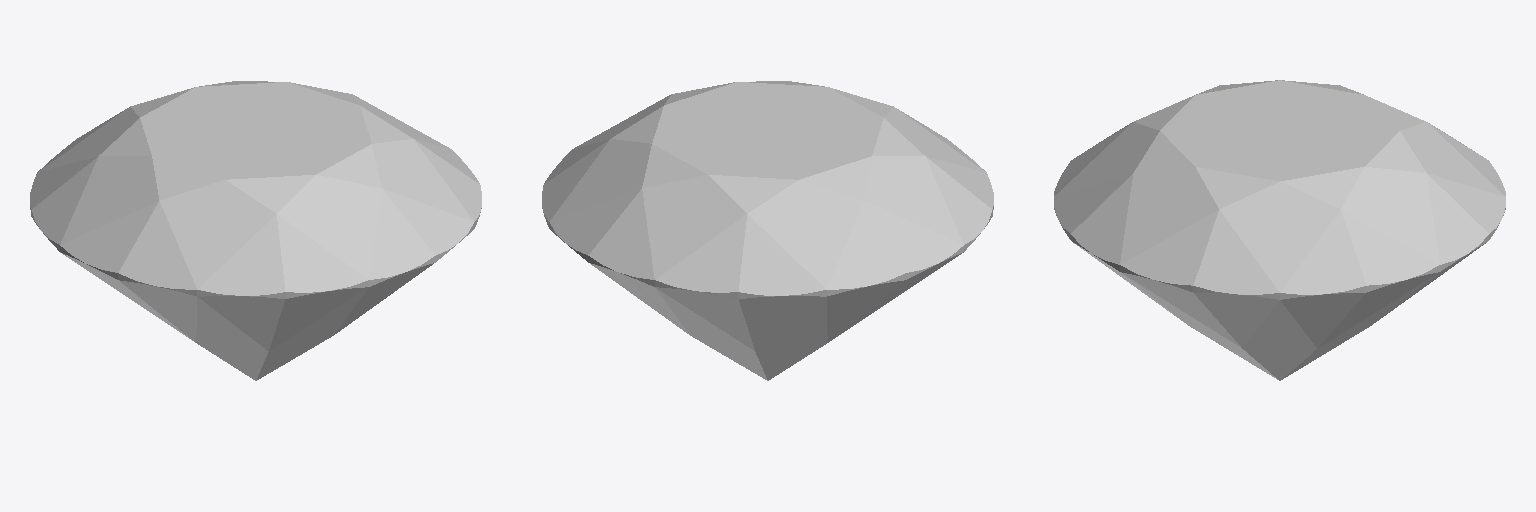
File: brilliant_diamond.obj
The picture shows the model from 3 angles: view 1: azimuth 30°, elevation 25°; view 2: azimuth 150°, elevation 25°; view 3: azimuth 270°, elevation 25°; orthographic projection.
Visible parts, largest first — view 1: dobj_dmesh; view 2: dobj_dmesh; view 3: dobj_dmesh.
Boxes of the visible parts, <box> form: dobj_dmesh: <box>30,81,481,380</box>; dobj_dmesh: <box>542,81,993,380</box>; dobj_dmesh: <box>1054,80,1505,380</box>.
Bounding box in the file's own units: 2 × 1.22 × 2.